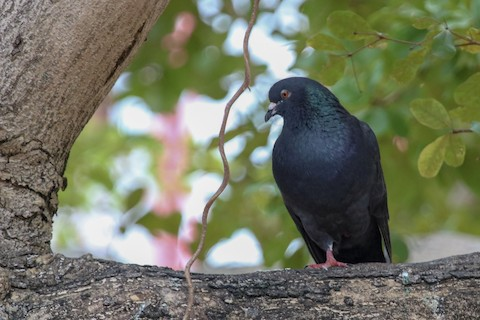pigeon: (262, 75, 399, 275)
